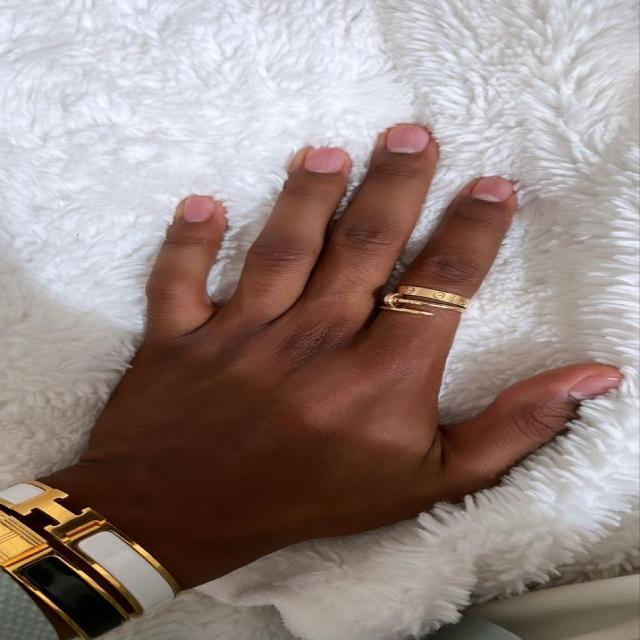Fingernail: (386, 122, 429, 155), (572, 376, 622, 402), (474, 175, 517, 203), (302, 147, 345, 174), (180, 196, 216, 221)
